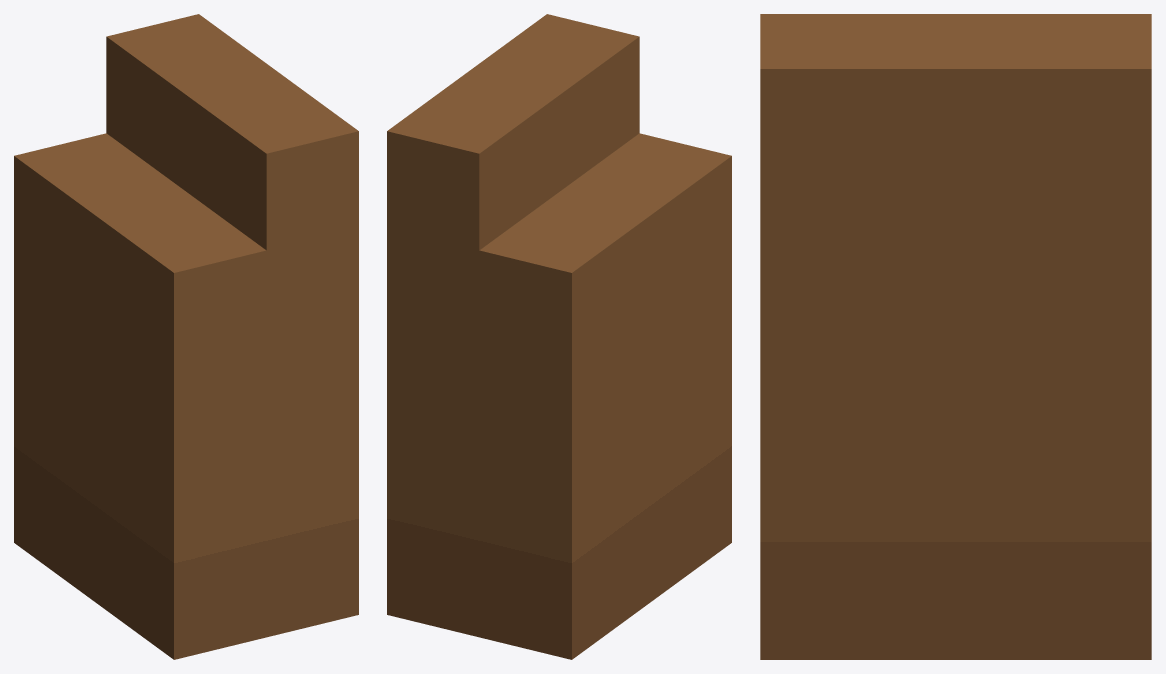
Rendered from player_arm_left.dae.
The picture shows the model from 3 angles, left to right: view 1: azimuth 30°, elevation 25°; view 2: azimuth 150°, elevation 25°; view 3: azimuth 270°, elevation 25°; orthographic projection. The views are drawn at different scales.
Visible parts, largest first — view 1: player_arm_left; view 2: player_arm_left; view 3: player_arm_left.
Part boxes in pixels (bbox=[...]): player_arm_left: bbox=[14, 14, 358, 659]; player_arm_left: bbox=[387, 14, 731, 659]; player_arm_left: bbox=[760, 14, 1151, 659].
Size of the model in its own units: 0.2 by 0.3 by 0.5.
Materials: 1 (1 with a texture image).
